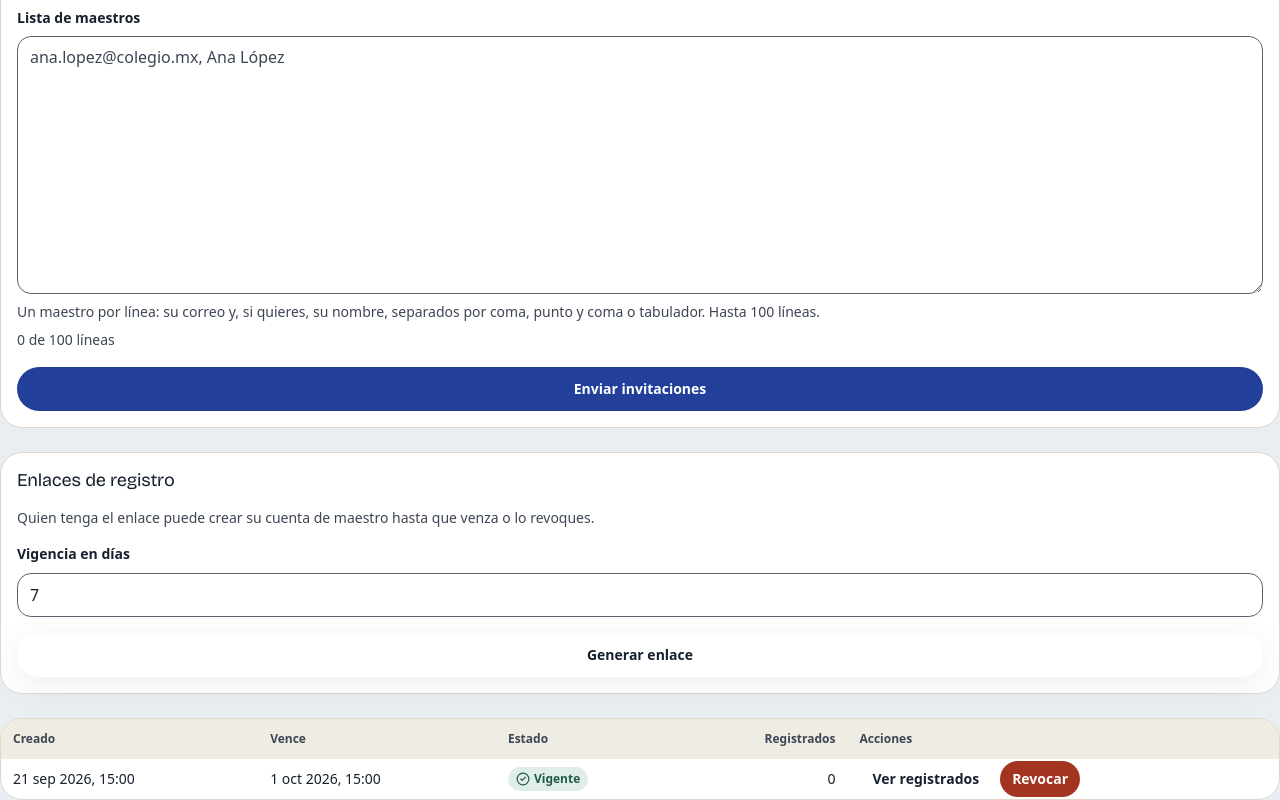
MaestrosView › el token generado no queda en la caché de consultas ni en la de mutaciones
(page scrolled)
Expected: the button "Revocar" is shown, x1=1000 y1=761 x2=1080 y2=797
Click the button "Generar enlace" at (640, 655), box x1=17 y1=633 x2=1263 y2=677
(page scrolled)
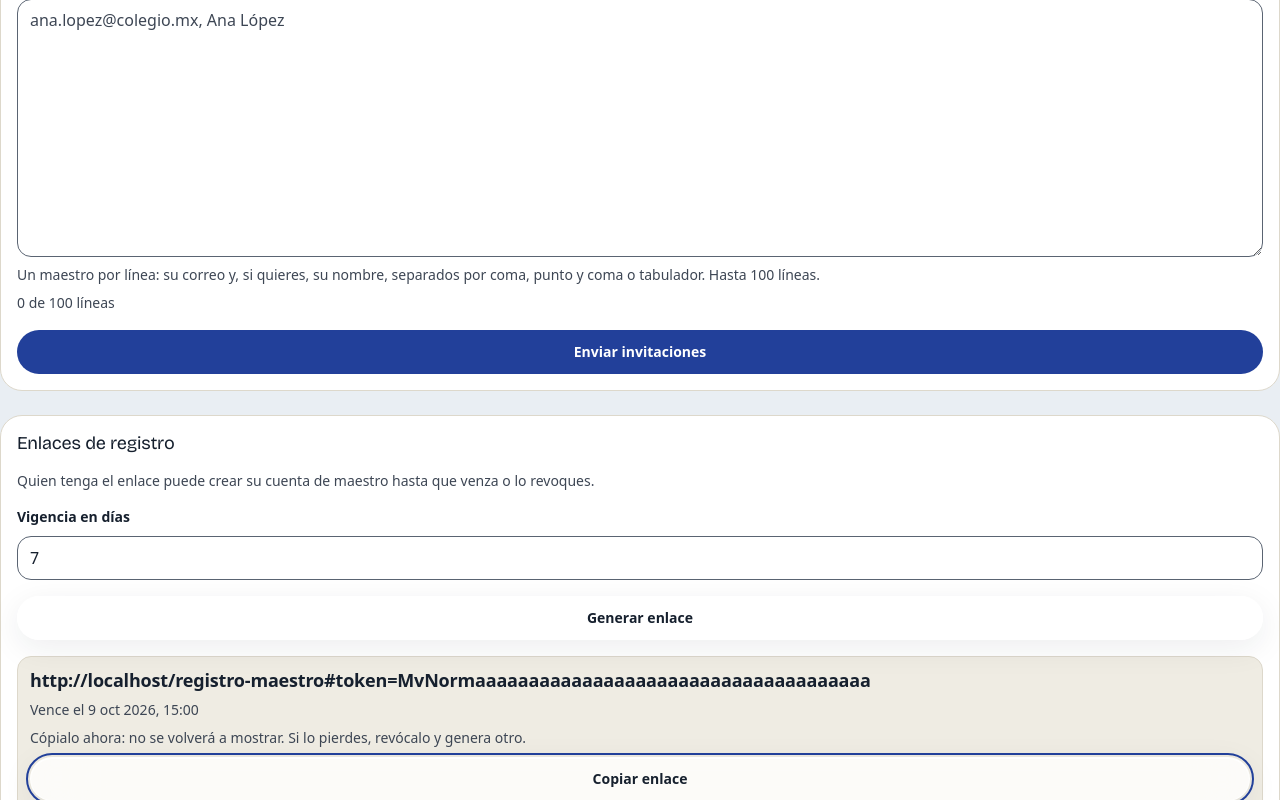
Expected: the button "Copiar enlace" is shown, x1=30 y1=757 x2=1250 y2=799
